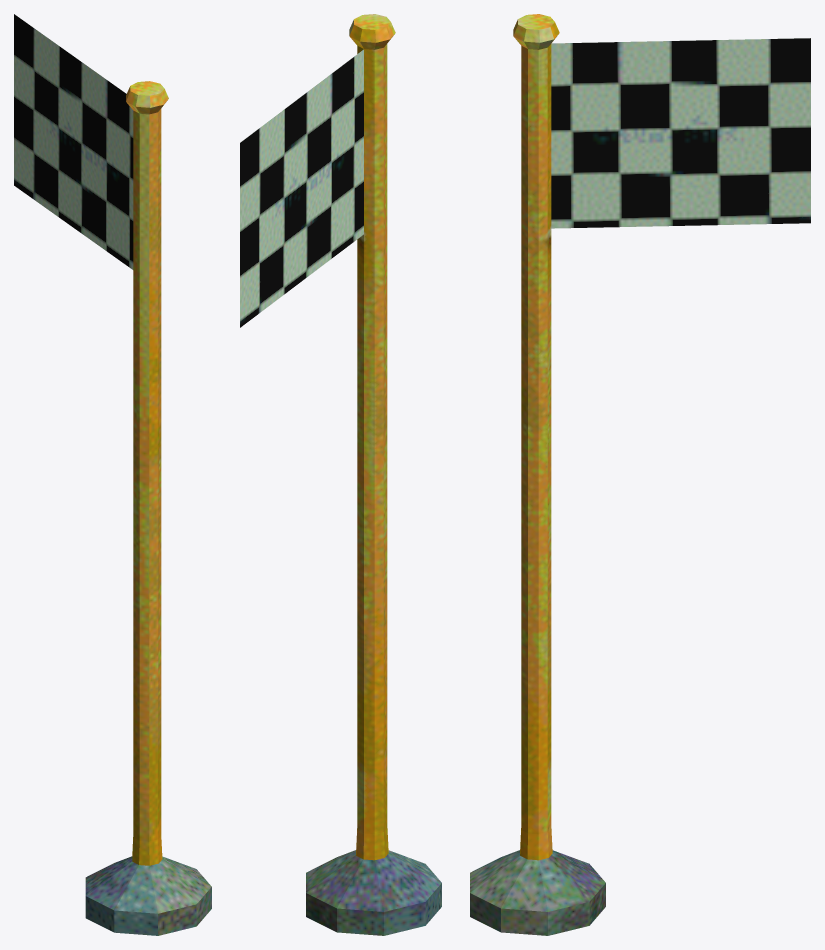
Rendered from checkpointflag.glb.
The picture shows the model from 3 angles, left to right: view 1: azimuth 30°, elevation 25°; view 2: azimuth 150°, elevation 25°; view 3: azimuth 270°, elevation 25°; orthographic projection. The views are drawn at different scales.
Visible parts, largest first — view 1: Flag; view 2: Flag; view 3: Flag.
Boxes of the visible parts, x1,y1,x2,y2 form: Flag: (14, 14, 211, 935); Flag: (240, 14, 441, 935); Flag: (470, 14, 810, 935).
Size of what is drawn, in the model's own units: 2.19 by 15.51 by 5.41.
Materials: 1 (1 with a texture image).
